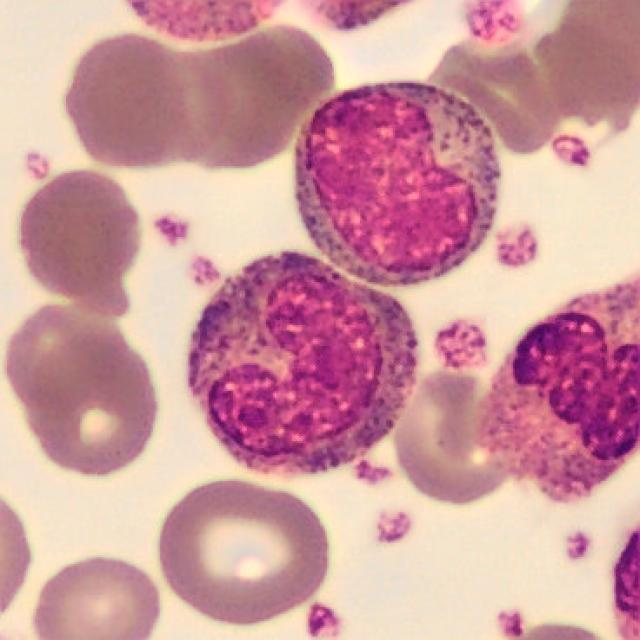Metamielocito: (294, 88, 501, 287)
